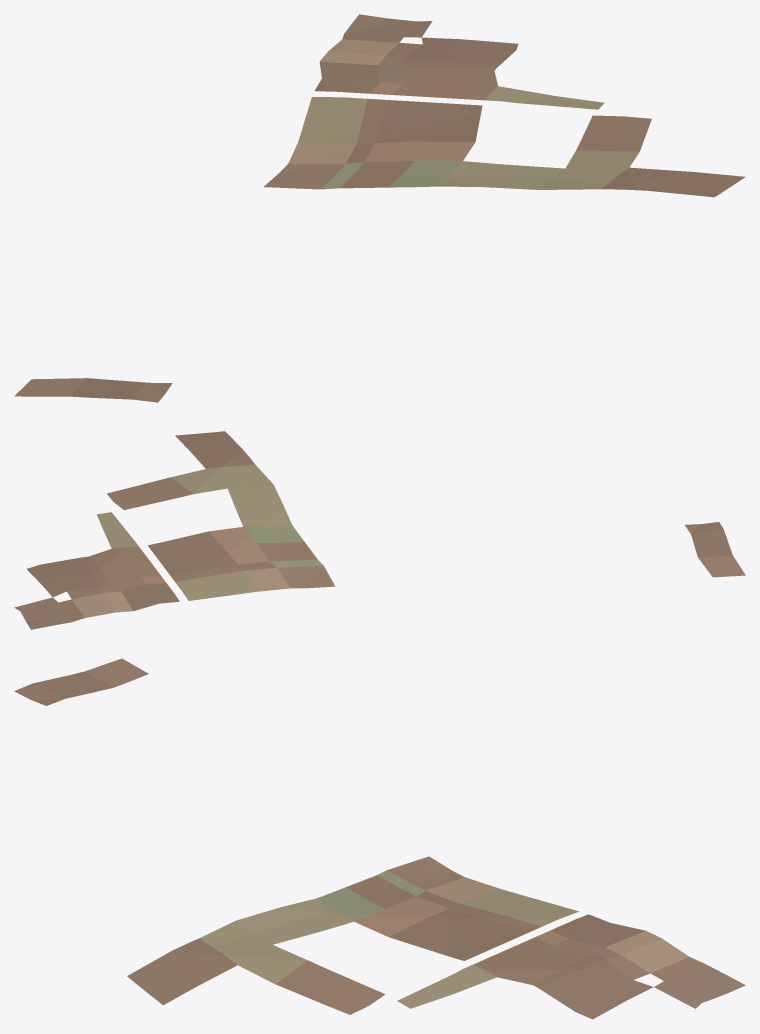
The model's file is farm_-11_-12_soil.glb.
3 views of the same model, one above another, from view 1: azimuth 30°, elevation 25°; view 2: azimuth 150°, elevation 25°; view 3: azimuth 270°, elevation 25° (orthographic). The views are drawn at different scales.
Visible parts, largest first — view 1: geometry_0; view 2: geometry_0; view 3: geometry_0.
Part boxes in pixels (x1,y1,x2,y2): geometry_0: (14,14,745,402); geometry_0: (14,431,745,629); geometry_0: (14,658,745,1019).
Bounding box in the file's own units: 546 × 23.84 × 459.
